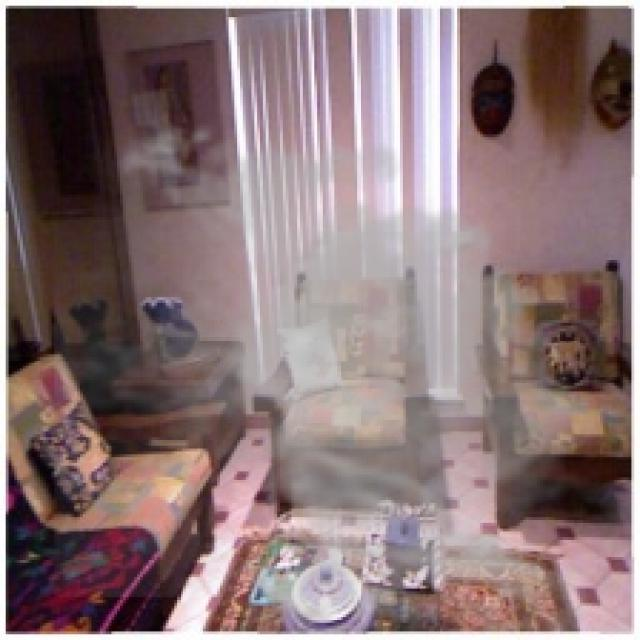smoke: (54, 109, 617, 632)
